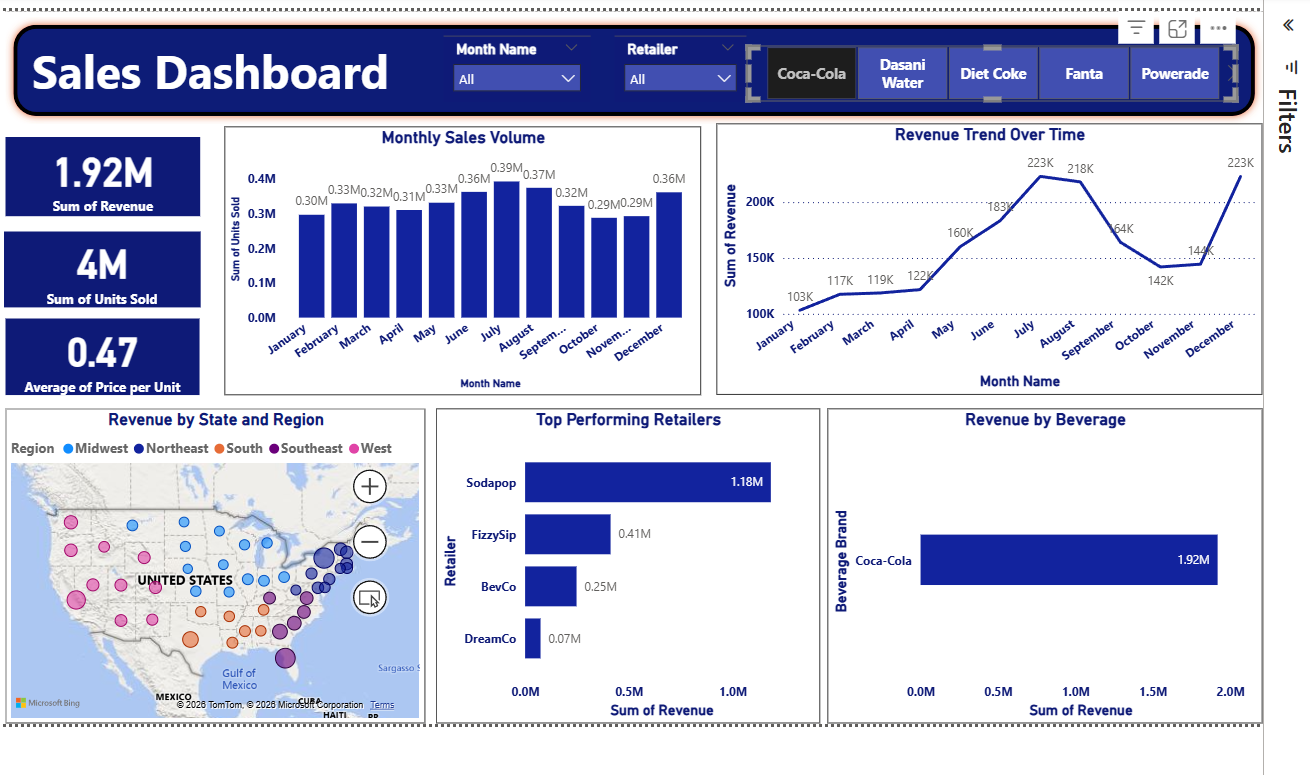

The dashboard page shown, as its layout file describes it:
{"tool":"powerbi","page":{"name":"Page 1","canvas":[1280,720],"ordinal":0},"visuals":[{"type":"shape","box":[10,0,1270,114],"z":0},{"type":"card","fields":{"Values":["Sum(Data.Revenue)"]},"box":[10,126.7,196.7,80],"z":1000},{"type":"card","fields":{"Values":["Avg(Data.Price per Unit)"]},"box":[10,310,195.8,77.5],"z":2000},{"type":"card","fields":{"Values":["Sum(Data.Units Sold)"]},"box":[8.3,223.3,198.3,76.7],"z":3000},{"type":"clusteredColumnChart","title":"Monthly Sales Volume","fields":{"Category":["Data.Month Name"],"Y":["Sum(Data.Units Sold)"]},"box":[231.7,116.6,481.5,271],"z":4000},{"type":"map","title":"Revenue by State and Region","fields":{"Category":["Data.State"],"Size":["Sum(Data.Revenue)"],"Series":["Data.Region"]},"box":[10.6,401.5,424.2,318.2],"z":5000},{"type":"slicer","fields":{"Values":["Data.Retailer"]},"box":[625,20,133.3,71.7],"z":6000},{"type":"slicer","fields":{"Values":["Data.Beverage Brand"]},"box":[758.6,34.8,496.7,56],"z":7000},{"type":"slicer","fields":{"Values":["Data.Month Name"]},"box":[453.3,20,148.3,71.7],"z":8000},{"type":"clusteredBarChart","title":"Top Performing Retailers","fields":{"Category":["Data.Retailer"],"Y":["Sum(Data.Revenue)"]},"box":[445.5,401.5,387.9,318.2],"z":9000},{"type":"lineChart","title":"Revenue Trend Over Time","fields":{"Category":["Data.Month Name"],"Y":["Sum(Data.Revenue)"]},"box":[728.8,113.6,551.5,274.2],"z":10000},{"type":"clusteredBarChart","title":"Revenue by Beverage","fields":{"Category":["Data.Beverage Brand"],"Y":["Sum(Data.Revenue)"]},"box":[840.9,401.5,439.4,318.2],"z":11000}]}

Visuals, with their boxes in screenshot pixels (x1, y1, x2, y2):
shape: <box>0,0,1282,112</box>
card - Sum(Data.Revenue): <box>0,124,198,205</box>
card - Avg(Data.Price per Unit): <box>0,309,197,388</box>
card - Sum(Data.Units Sold): <box>0,222,198,299</box>
"Monthly Sales Volume" clusteredColumnChart: <box>224,114,710,388</box>
"Revenue by State and Region" map: <box>0,402,429,723</box>
slicer - Data.Retailer: <box>621,17,755,89</box>
slicer - Data.Beverage Brand: <box>755,32,1257,88</box>
slicer - Data.Month Name: <box>447,17,597,89</box>
"Top Performing Retailers" clusteredBarChart: <box>439,402,831,723</box>
"Revenue Trend Over Time" lineChart: <box>725,111,1282,388</box>
"Revenue by Beverage" clusteredBarChart: <box>838,402,1282,723</box>
